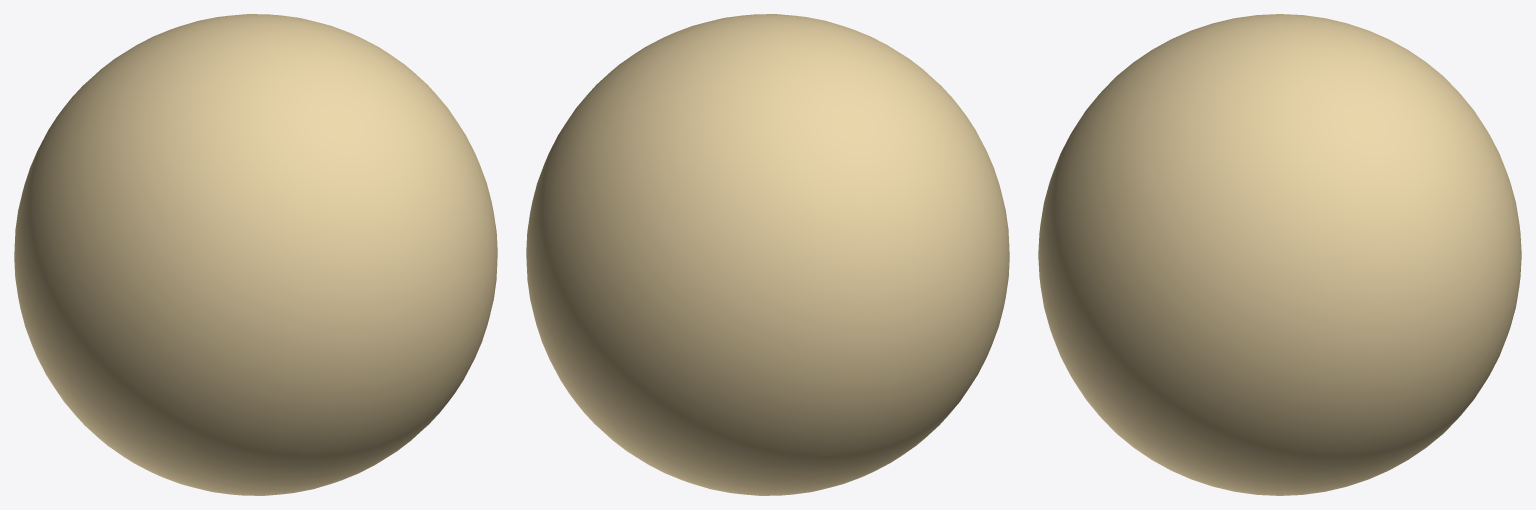
File: planetbase.fbx
The picture shows the model from 3 angles, left to right: view 1: azimuth 30°, elevation 25°; view 2: azimuth 150°, elevation 25°; view 3: azimuth 270°, elevation 25°; orthographic projection.
Parts seen in each view (by area): view 1: Base; view 2: Base; view 3: Base.
Part boxes in pixels (<box>): Base: <box>14,14,497,495</box>; Base: <box>526,14,1009,495</box>; Base: <box>1038,14,1521,495</box>.
Bounding box in the file's own units: 200 × 199 × 200.
